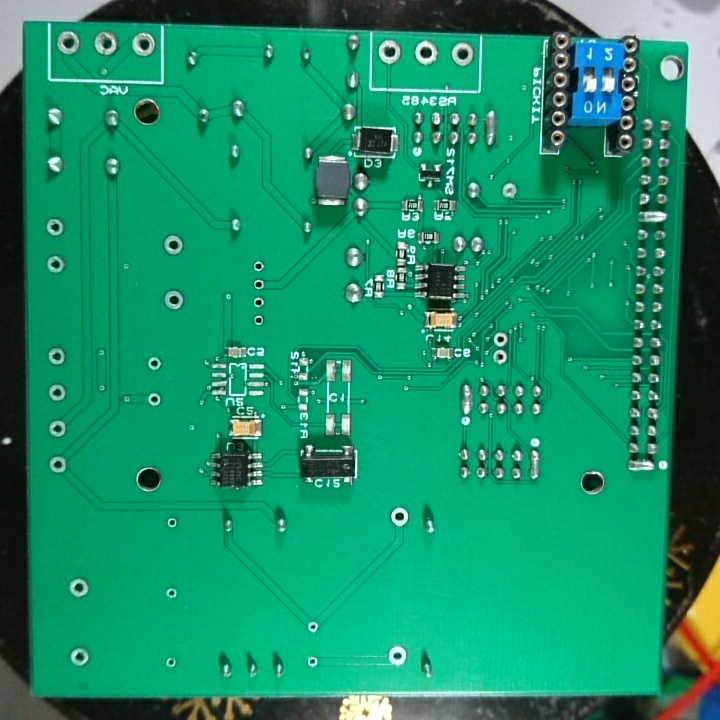F: (374, 37, 408, 67), (54, 26, 84, 59), (91, 26, 120, 59), (413, 37, 440, 71), (65, 572, 93, 601), (383, 641, 411, 670), (130, 29, 156, 60), (450, 40, 475, 72), (161, 232, 186, 260), (67, 644, 93, 670), (42, 252, 67, 279), (387, 503, 411, 531), (44, 345, 71, 369), (45, 452, 70, 477), (42, 214, 66, 240), (161, 286, 184, 313), (46, 416, 69, 441), (499, 178, 524, 200), (47, 379, 69, 404), (145, 387, 164, 412), (490, 345, 510, 368), (144, 352, 164, 374), (164, 512, 180, 536), (163, 584, 181, 605), (250, 308, 268, 329), (490, 329, 510, 347), (250, 292, 267, 312), (305, 616, 321, 637), (304, 651, 319, 672), (250, 274, 267, 292), (250, 258, 267, 275), (163, 653, 179, 670)
P: (482, 111, 499, 149), (459, 378, 475, 416), (627, 457, 657, 475), (636, 209, 669, 225), (527, 447, 541, 483)
